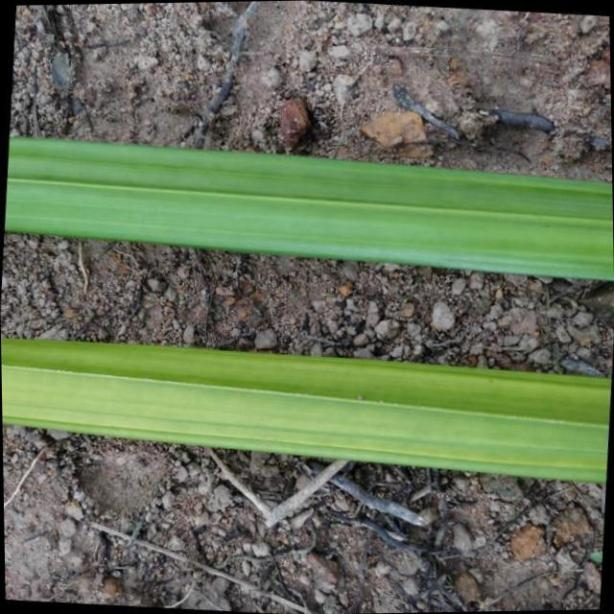nitrogen: (1, 131, 614, 283), (5, 331, 614, 481)
